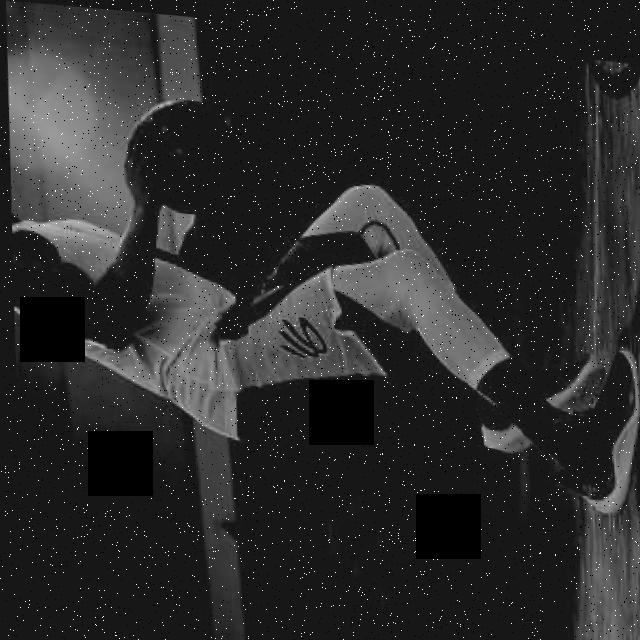shoe: (539, 325, 640, 504), (462, 329, 604, 449)
